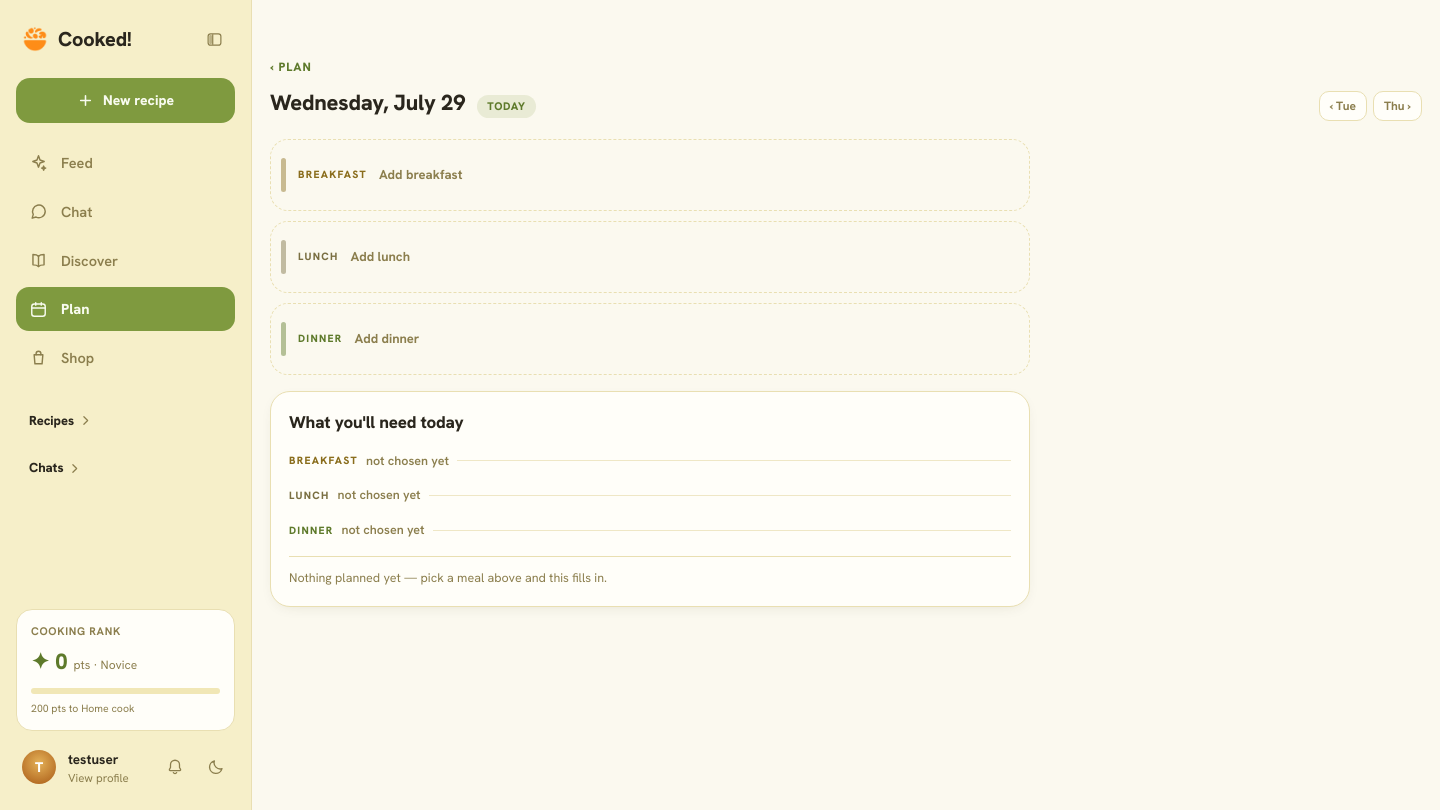
the recipe picker › shows cook time first, then why the recipe is in the list
What coordinates should you click on to do the following:
click the button with aria-label "add a recipe for dinner"
I would click on:
 (320, 338)
Its box is [270,303,1030,375].
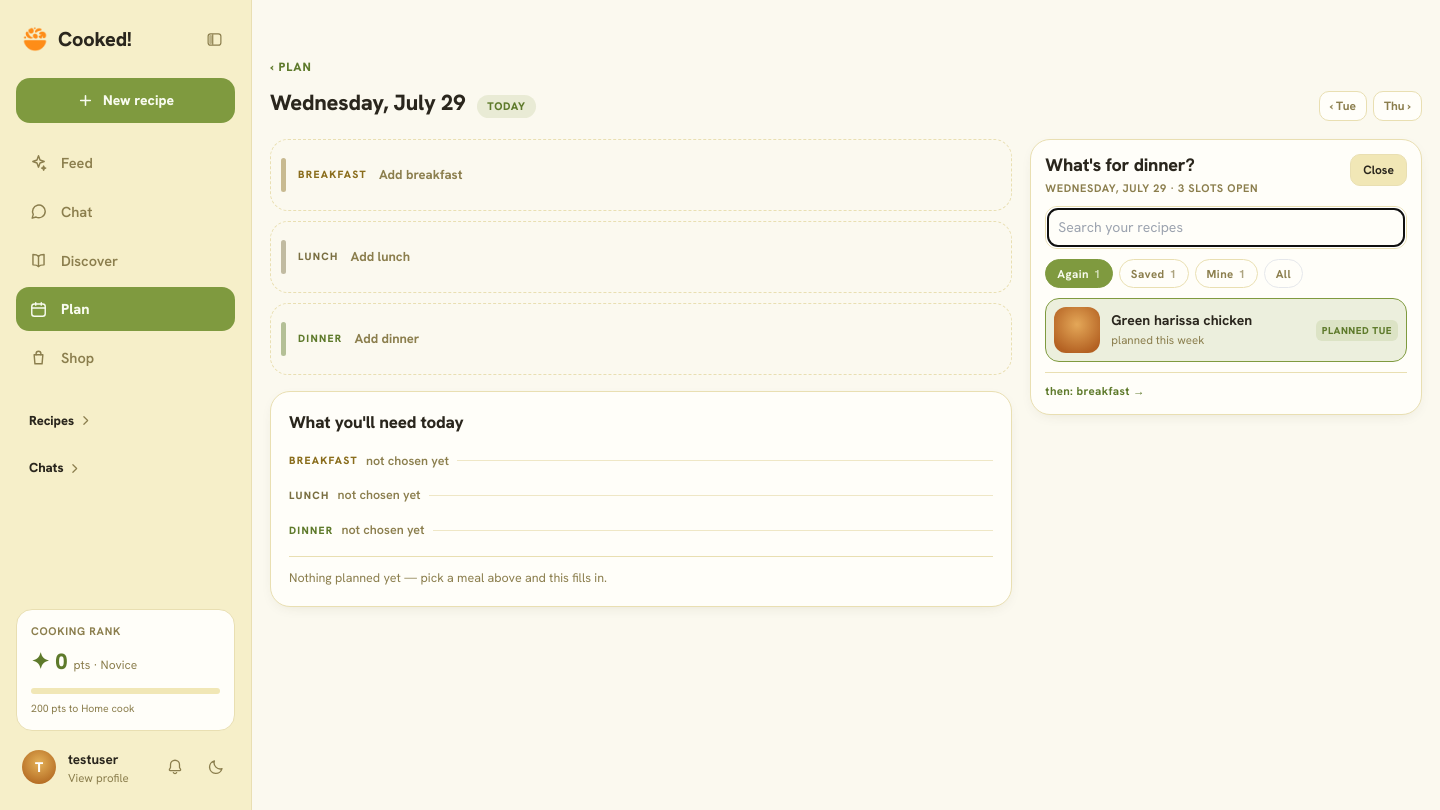
Expected: the heading "What's for dinner?" is shown, [1045,153,1194,176]
What coordinates should you click on to do the following:
click the tab "Saved1"
I would click on:
 (1154, 274)
Its box is [1119,259,1188,288].
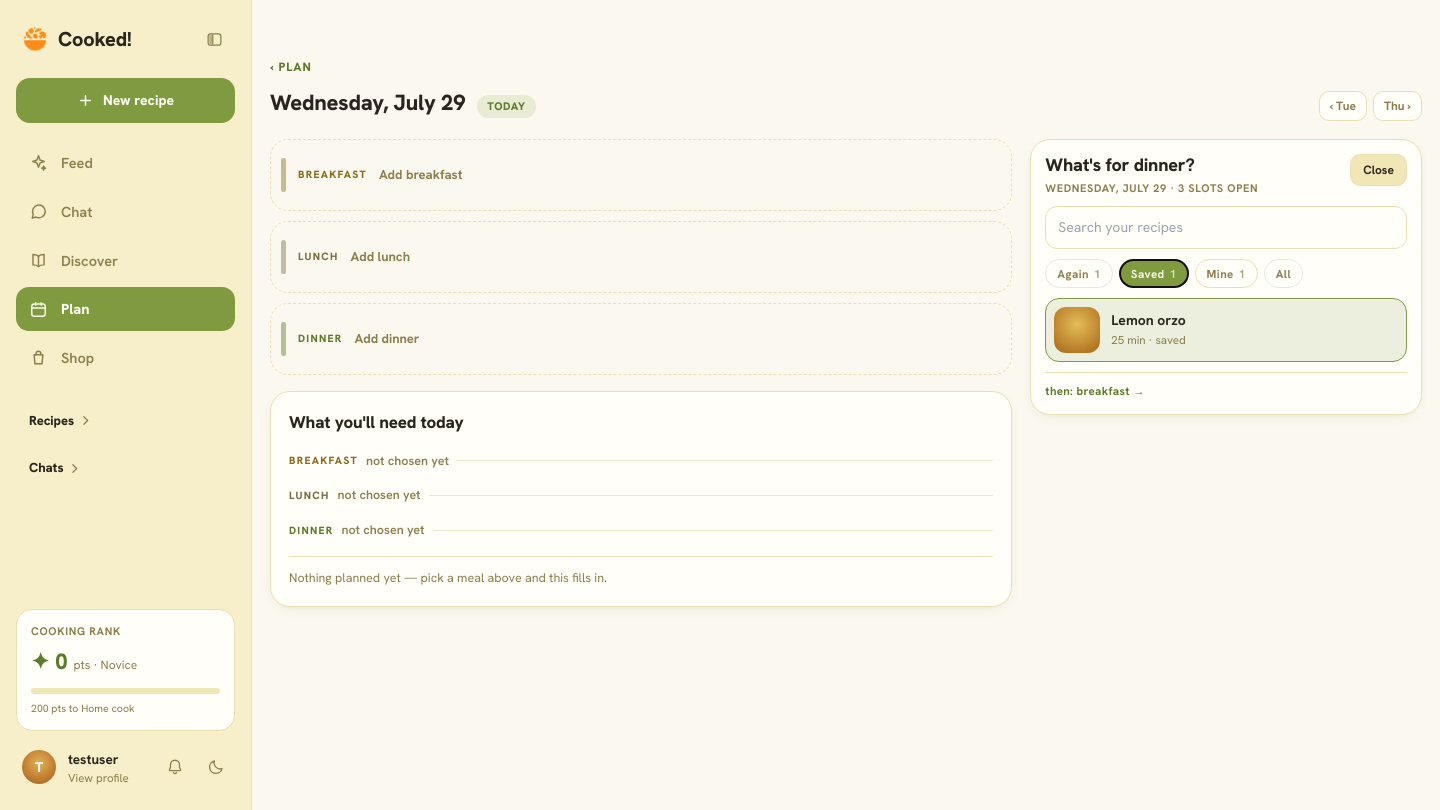
Expected: the text "25 min · saved" is shown, [1111,332,1186,348]
